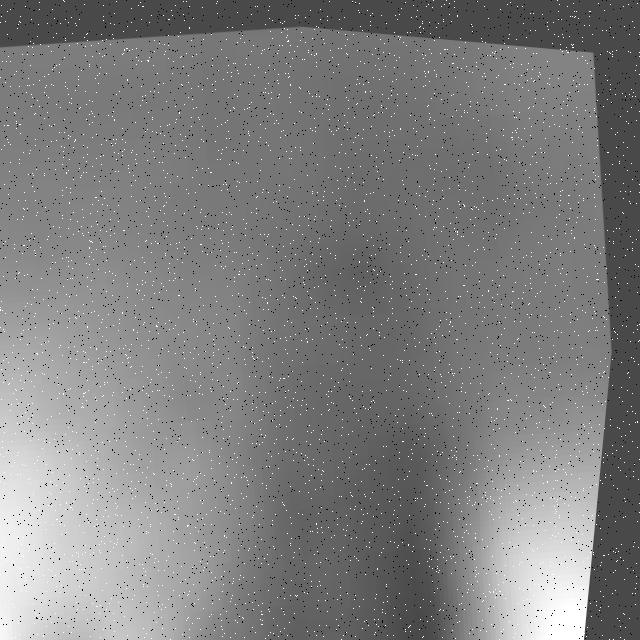person: (7, 190, 362, 640), (417, 285, 622, 640), (1, 184, 151, 640)
